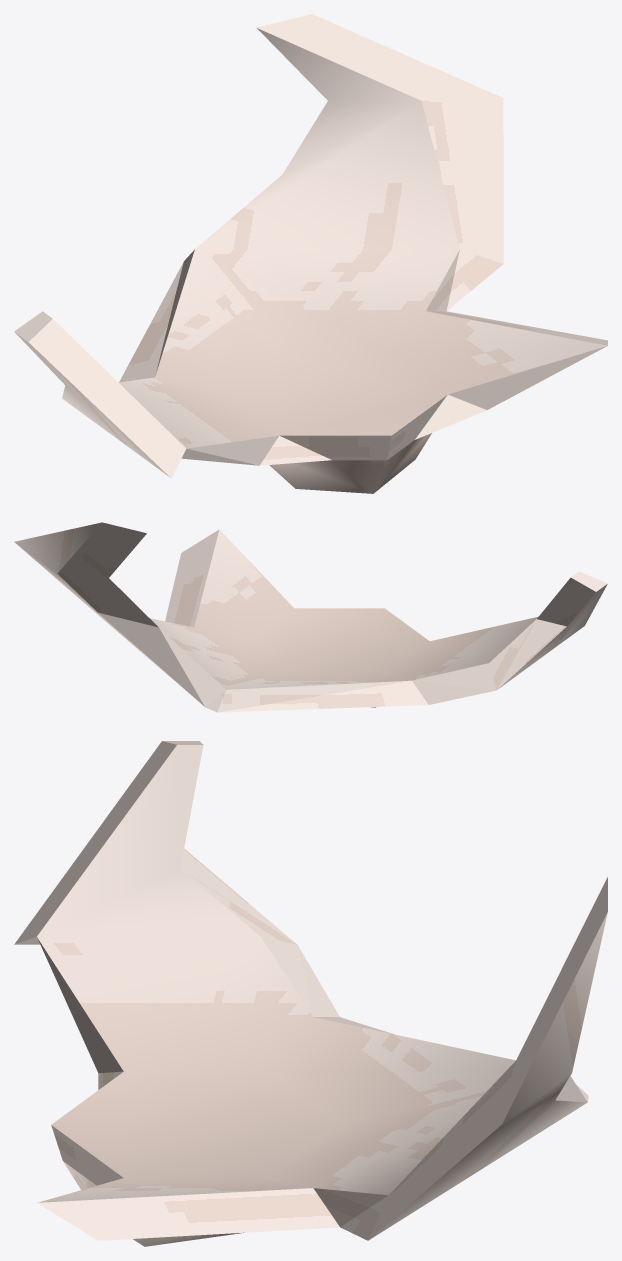
File: wine_glass_gib_04.glb
The picture shows the model from 3 angles, top to bottom: view 1: azimuth 30°, elevation 25°; view 2: azimuth 150°, elevation 25°; view 3: azimuth 270°, elevation 25°; orthographic projection. The views are drawn at different scales.
Visible parts, largest first — view 1: gib_04; view 2: gib_04; view 3: gib_04.
Boxes of the visible parts, x1,y1,x2,y2 form: gib_04: (14, 14, 607, 493); gib_04: (14, 522, 607, 712); gib_04: (14, 741, 607, 1246).
Bounding box in the file's own units: 0.3279 × 0.1564 × 0.215.
1 material, 1 textured.
